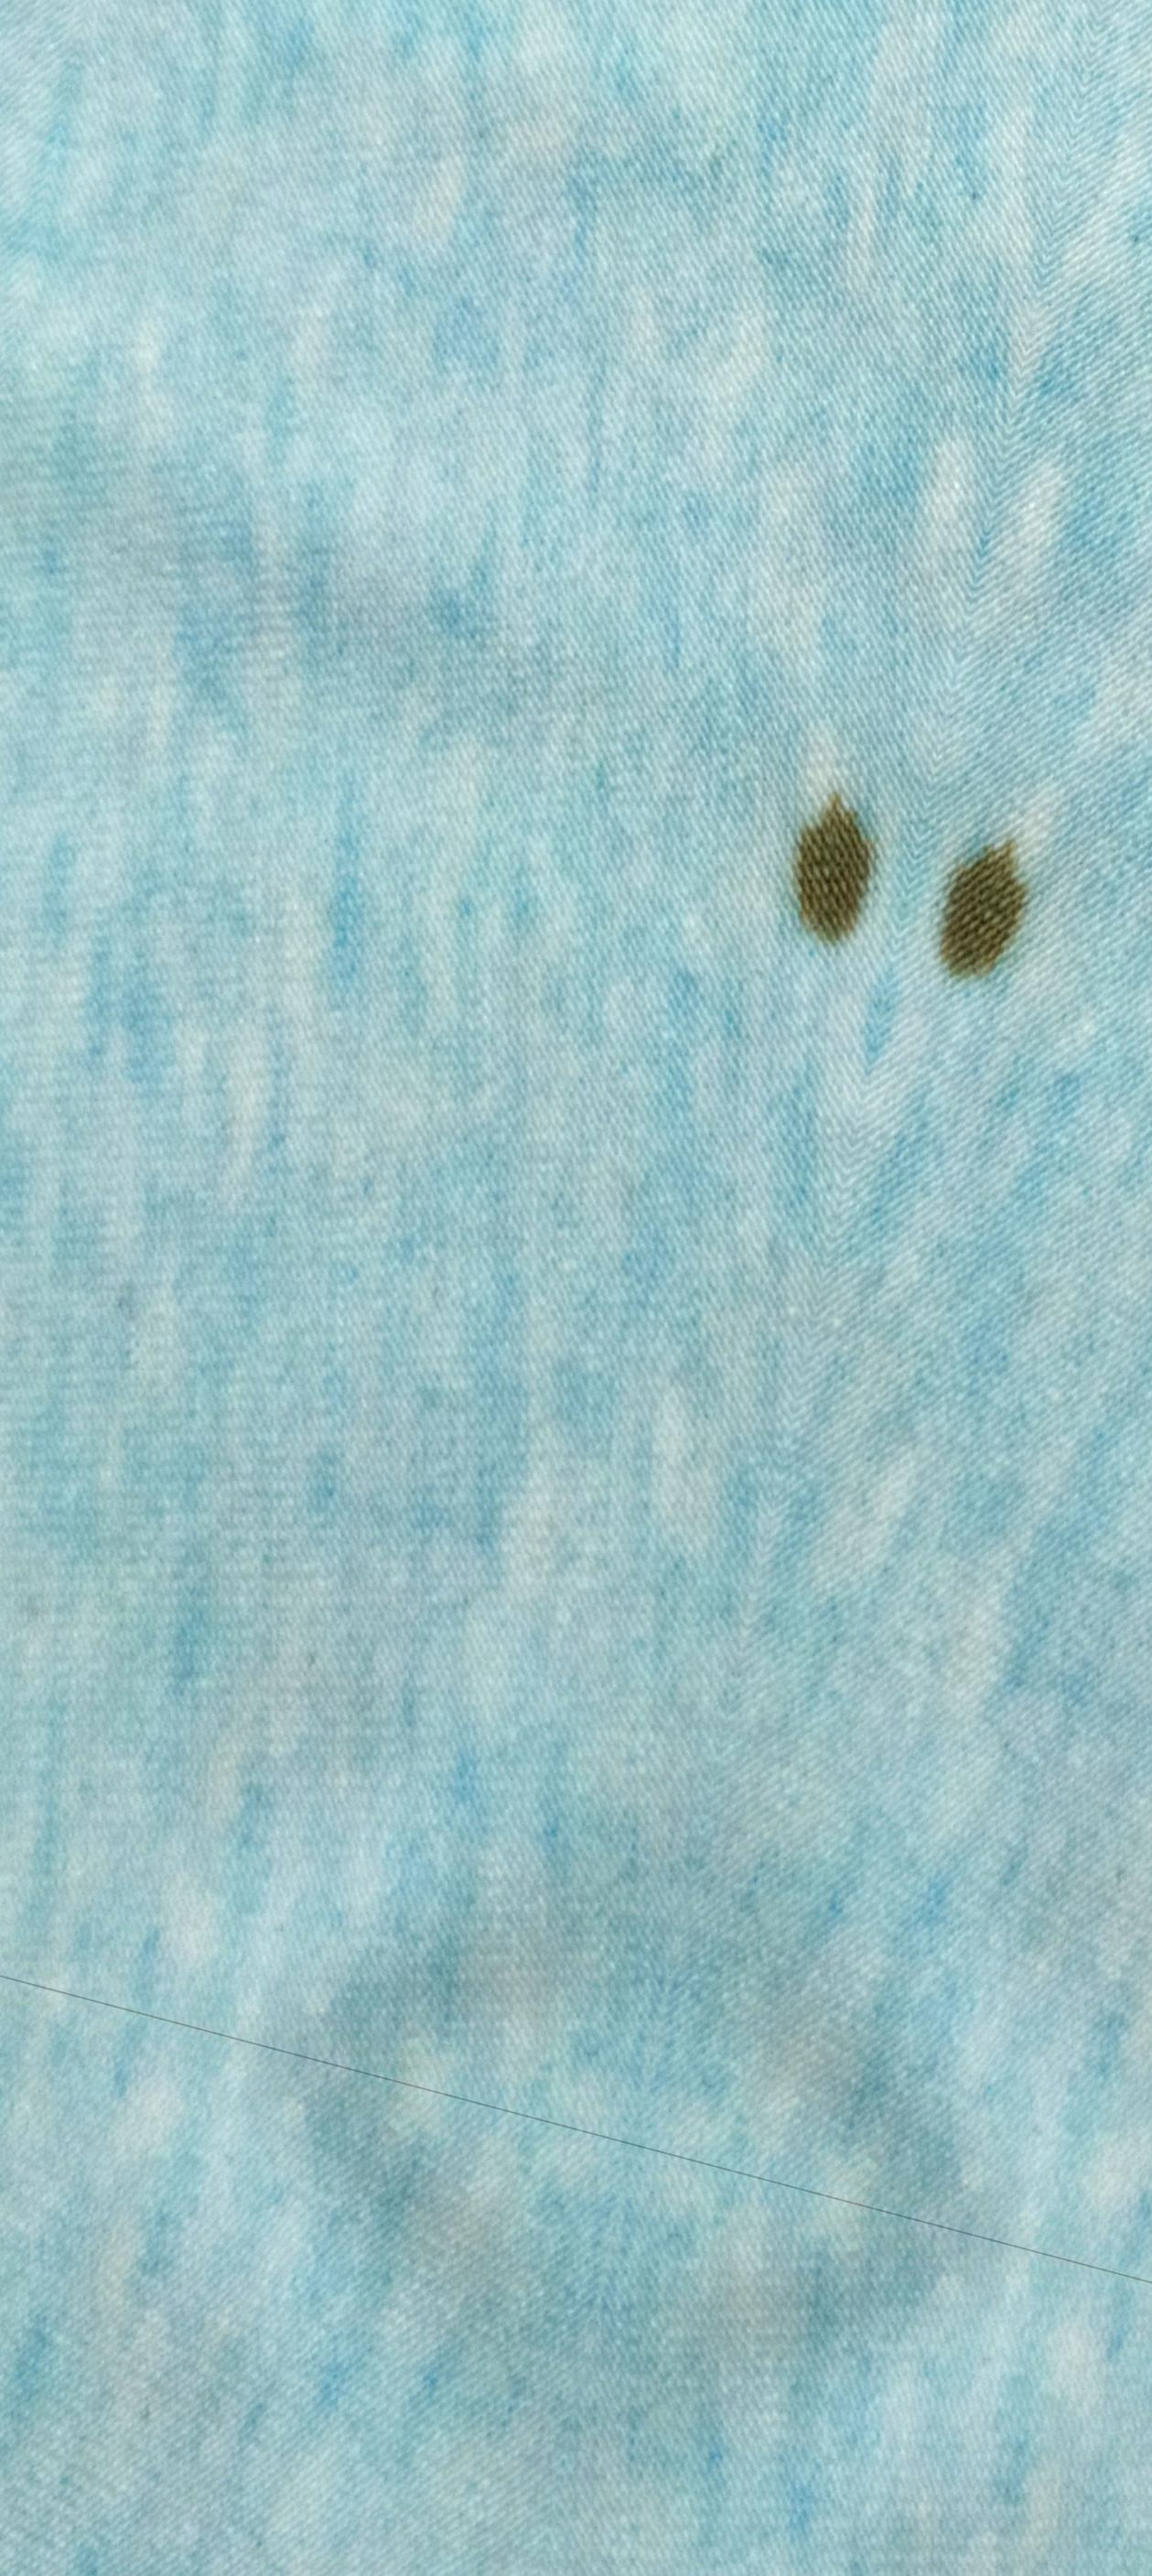stain: (922, 807, 1065, 1017), (779, 767, 882, 969)
